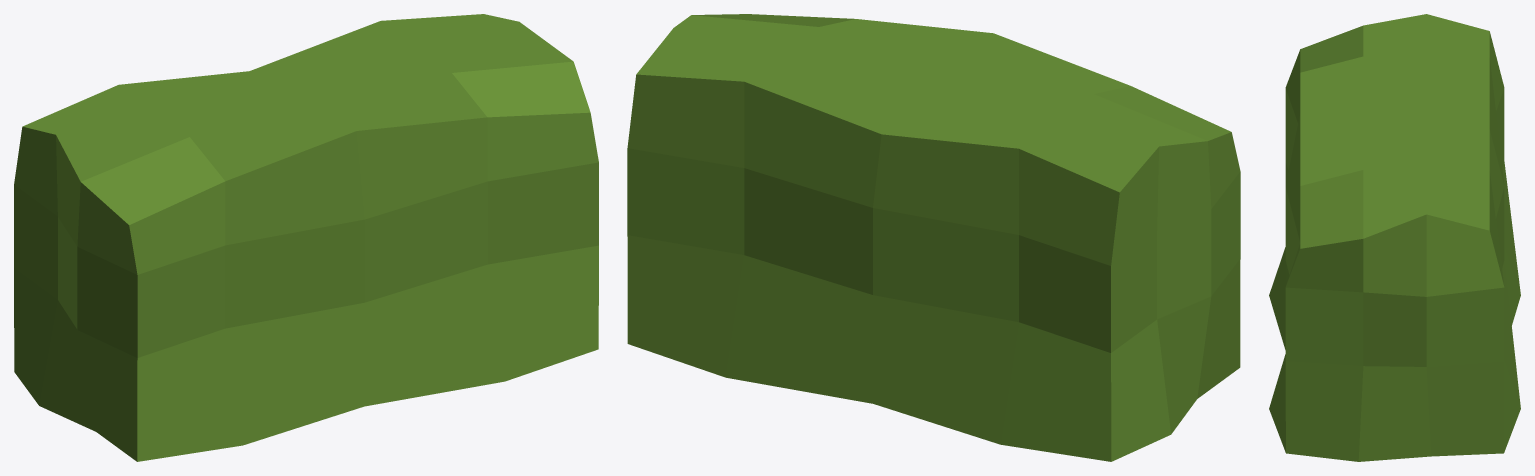
3 views of the same model, side by side, from view 1: azimuth 30°, elevation 25°; view 2: azimuth 150°, elevation 25°; view 3: azimuth 270°, elevation 25° (orthographic). The views are drawn at different scales.
Visible parts, largest first — view 1: Bush Fence; view 2: Bush Fence; view 3: Bush Fence.
Boxes of the visible parts, x1=… form: Bush Fence: x1=14, y1=14, x2=598, y2=461; Bush Fence: x1=627, y1=14, x2=1240, y2=461; Bush Fence: x1=1269, y1=14, x2=1520, y2=461.
Size of the model in its own units: 2.16 by 1.11 by 1.06.
Materials: 1 (1 with a texture image).
